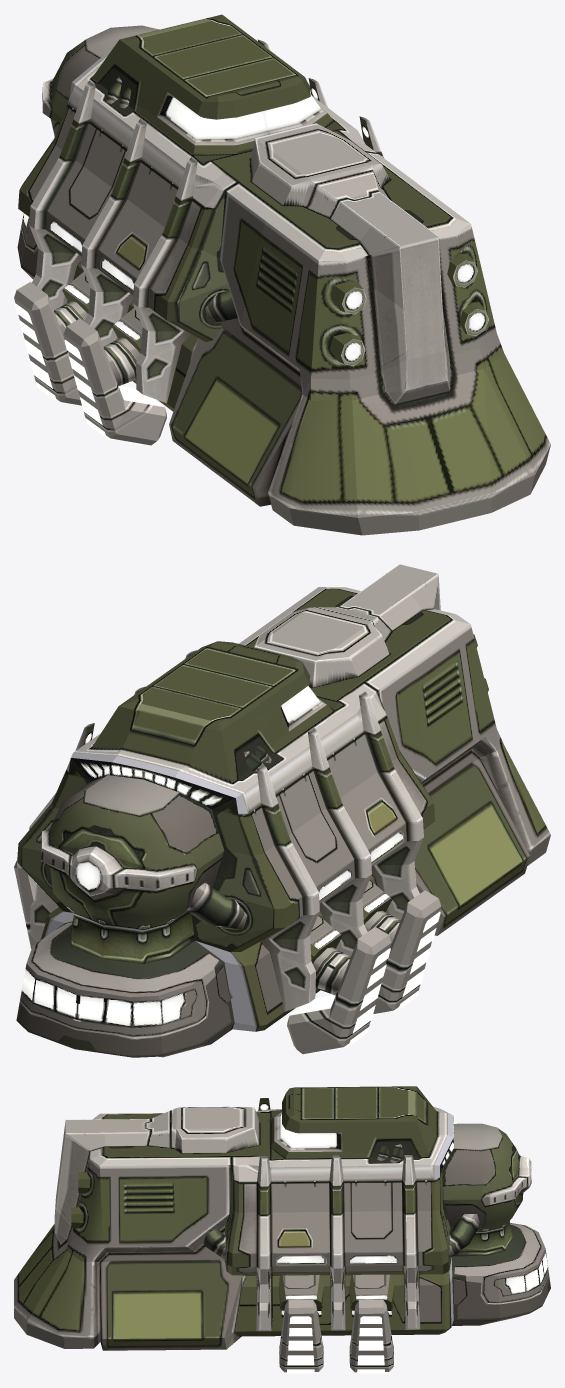
File: TrainEngineSam.fbx
The picture shows the model from 3 angles, top to bottom: view 1: azimuth 30°, elevation 25°; view 2: azimuth 150°, elevation 25°; view 3: azimuth 270°, elevation 25°; orthographic projection. The views are drawn at different scales.
Parts seen in each view (by area): view 1: TrainEngineSam; view 2: TrainEngineSam; view 3: TrainEngineSam.
Part boxes in pixels (x1=…): TrainEngineSam: x1=14, y1=14, x2=550, y2=535; TrainEngineSam: x1=14, y1=564, x2=550, y2=1057; TrainEngineSam: x1=14, y1=1086, x2=550, y2=1373.
Bounding box in the file's own units: 3.17 × 2.73 × 5.76.
